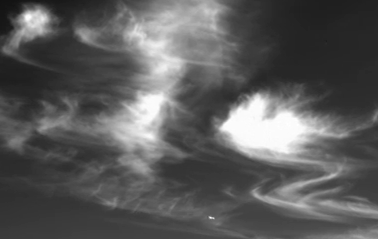Target: (209, 216, 214, 218)
